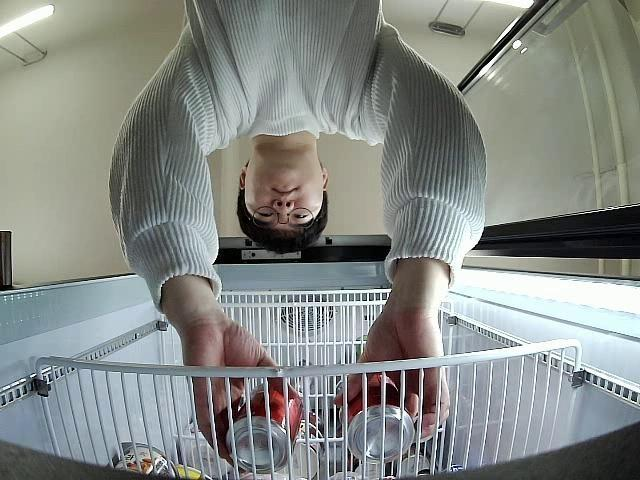11_cocaColaZero: (335, 373, 415, 464), (226, 382, 302, 471)
